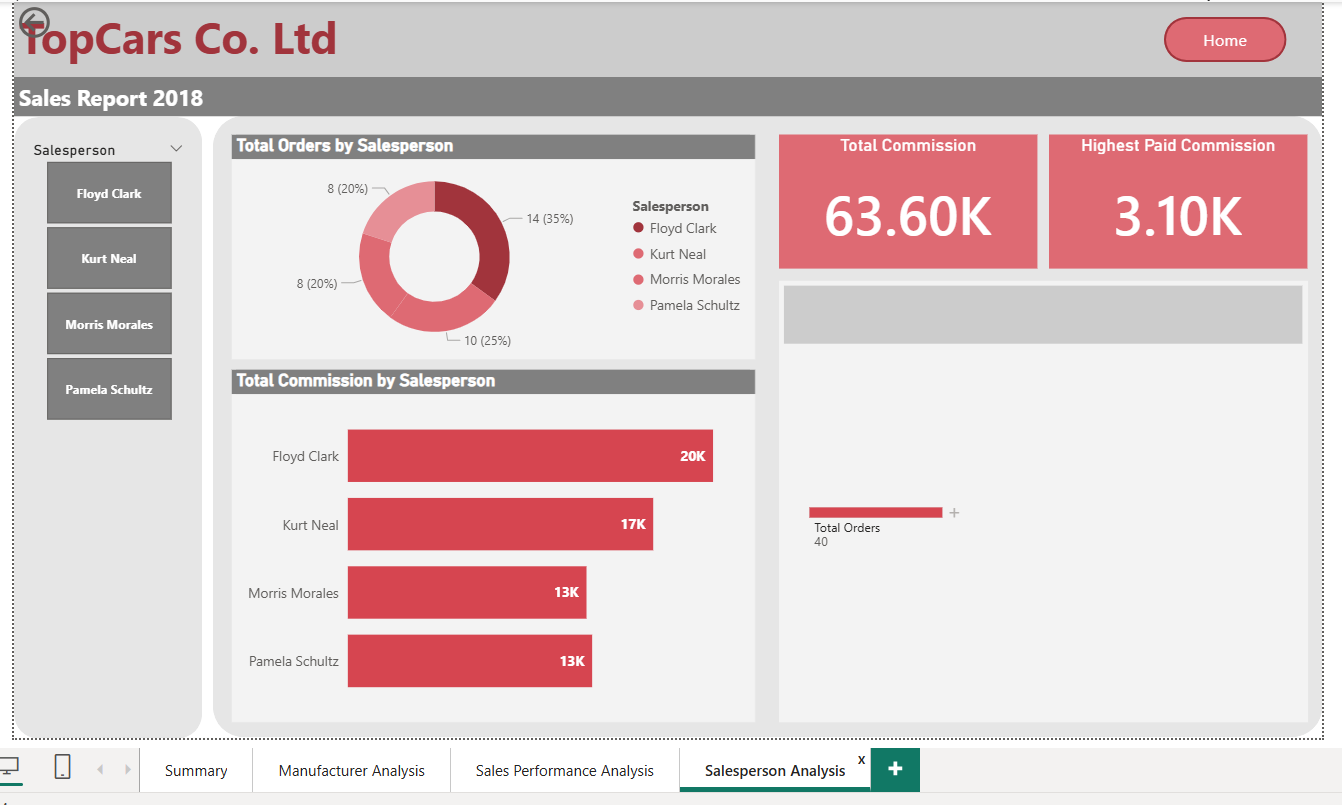

This screenshot's page, from the dashboard's own definition file:
{"tool":"powerbi","page":{"name":"Salesperson Analysis","canvas":[1280,720],"ordinal":3},"visuals":[{"type":"shape","box":[194,111.8,1085.8,608.2],"z":0},{"type":"textbox","box":[0,0,1279.8,73.4],"z":1000},{"type":"textbox","box":[0,73.4,1279.8,38.6],"z":2000},{"type":"shape","box":[0,111.9,184.1,608.2],"z":3000},{"type":"slicer","fields":{"Values":["Dim_Salesperson.sales_person_name"]},"box":[6.2,130.6,171.6,284.8],"z":4000},{"type":"clusteredBarChart","title":"Total Commission by Salesperson ","fields":{"Y":["Sum(Fact_CarsSales.Total Commission)"],"Category":["Dim_Salesperson.sales_person_name"]},"box":[212.8,359.5,512.4,344.8],"z":5000},{"type":"decompositionTreeVisual","fields":{"Analyze":["Fact_CarsSales.Total Orders"],"ExplainBy":["Dim_Manufacturer.manufacturer","Dim_Model.vehicle_type","Dim_Salesperson.sales_person_name","Dates.Month","Dim_Model.model"]},"box":[748.4,272.7,517.3,431.7],"z":6000},{"type":"actionButton","box":[1125,14.7,119.8,44],"z":7000},{"type":"actionButton","box":[0,0,100,40],"z":8000},{"type":"cardVisual","title":"Total Commission","fields":{"Data":["Sum(Fact_CarsSales.Total Commission)"]},"box":[748.6,130,252.9,131.4],"z":9000},{"type":"cardVisual","title":"Highest Paid Commission","fields":{"Data":["Max(Fact_CarsSales.Total Commission)"]},"box":[1012,130,252.9,131.4],"z":10000},{"type":"donutChart","fields":{"Category":["Dim_Salesperson.sales_person_name"],"Y":["Fact_CarsSales.Num of Processed Orders"]},"box":[212.8,129.6,512.4,220.1],"z":11000}]}

Visuals, with their boxes on the page's 1280x720 design canvas (x1, y1, x2, y2). These are canvas units, not pixel positions in the 1342x805 screenshot, which may show the page scaled, cropped or inside an application window:
shape: (left=194, top=112, right=1280, bottom=720)
textbox: (left=0, top=0, right=1280, bottom=73)
textbox: (left=0, top=73, right=1280, bottom=112)
shape: (left=0, top=112, right=184, bottom=720)
slicer - Dim_Salesperson.sales_person_name: (left=6, top=131, right=178, bottom=415)
"Total Commission by Salesperson " clusteredBarChart: (left=213, top=360, right=725, bottom=704)
decompositionTreeVisual - Fact_CarsSales.Total Orders x Dim_Manufacturer.manufacturer: (left=748, top=273, right=1266, bottom=704)
actionButton: (left=1125, top=15, right=1245, bottom=59)
actionButton: (left=0, top=0, right=100, bottom=40)
"Total Commission" cardVisual: (left=749, top=130, right=1002, bottom=261)
"Highest Paid Commission" cardVisual: (left=1012, top=130, right=1265, bottom=261)
donutChart - Dim_Salesperson.sales_person_name x Fact_CarsSales.Num of Processed Orders: (left=213, top=130, right=725, bottom=350)
